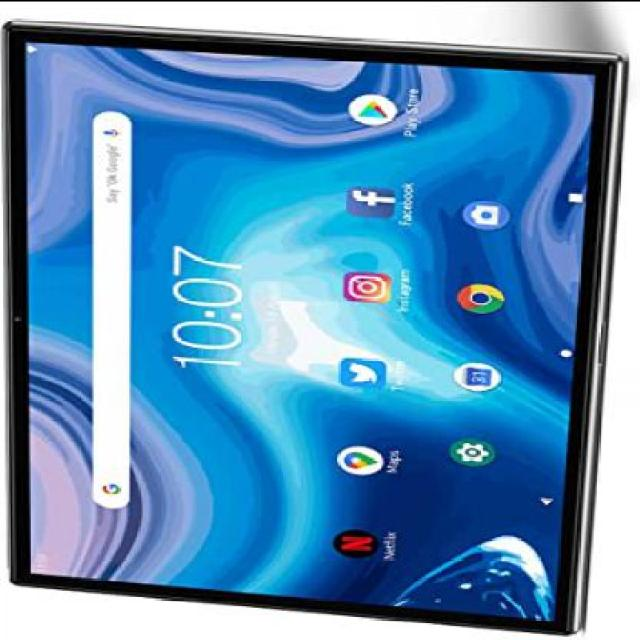tablet: (4, 0, 608, 636)
